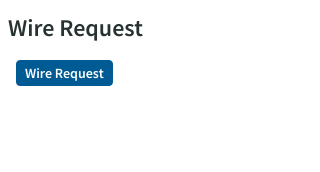
Test case: does not show success or install data on a failed save
Click the button "Wire Request" at (64, 73), box [16,60,113,86]
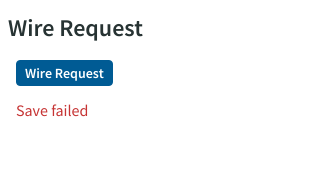
expect the message reads "Save failed": met, box [16,100,88,120]
